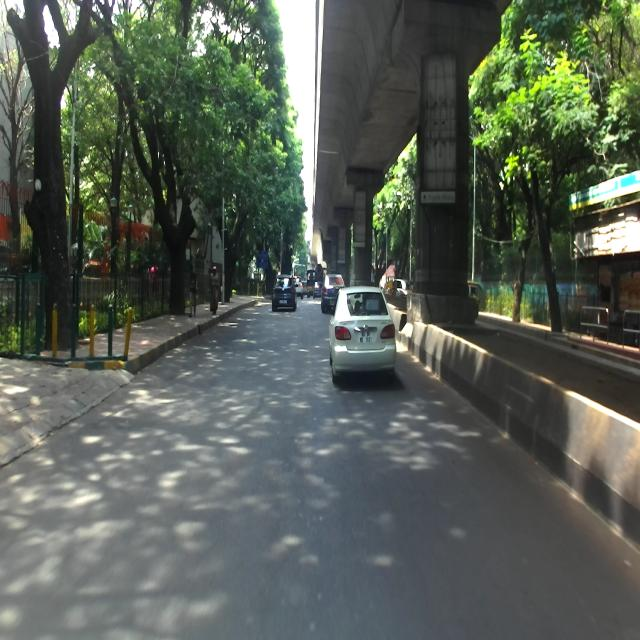barrier ahead at: (100, 299, 118, 357), (85, 301, 99, 358), (124, 305, 134, 361)
car ahead at: (327, 277, 399, 376)
tree ahead at: (10, 9, 80, 348)
